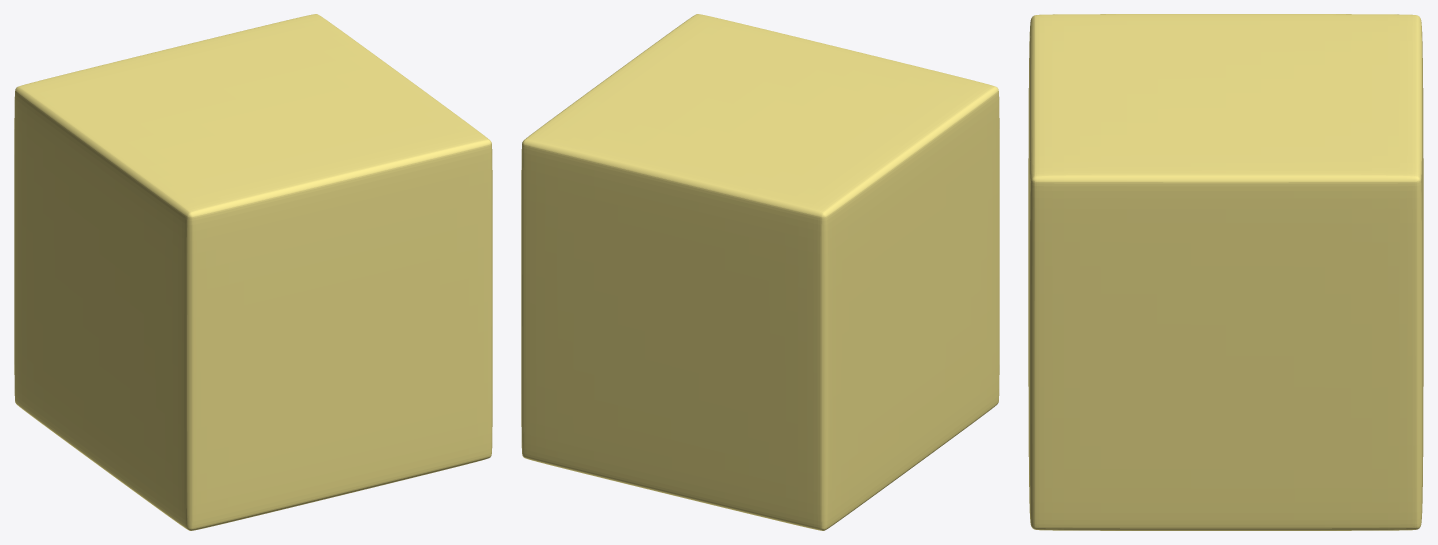
Rendered from Toy_Crate_Hi_055456.fbx.
3 renders of one model, left to right at view 1: azimuth 30°, elevation 25°; view 2: azimuth 150°, elevation 25°; view 3: azimuth 270°, elevation 25°, orthographic. The views are drawn at different scales.
Parts seen in each view (by area): view 1: Cube; view 2: Cube; view 3: Cube.
Boxes of the visible parts, x1,y1,x2,y2 form: Cube: (14,14,492,530); Cube: (521,14,999,530); Cube: (1028,14,1423,530).
Bounding box in the file's own units: 0.6996 × 0.6996 × 0.6996.
